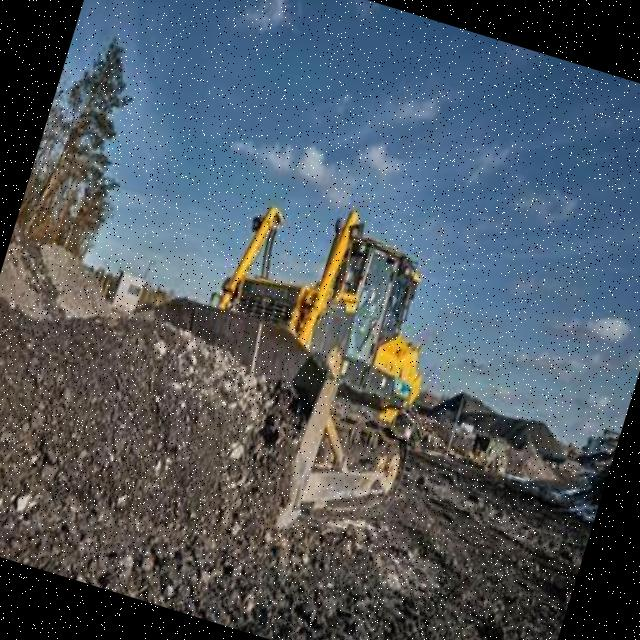Bulldozer: (64, 132, 495, 570)
